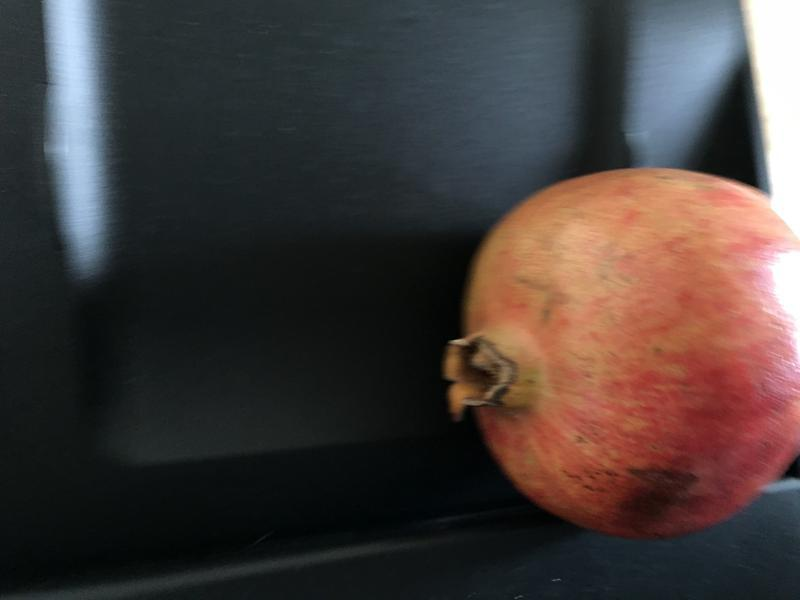pomegranate: (406, 140, 800, 555)
